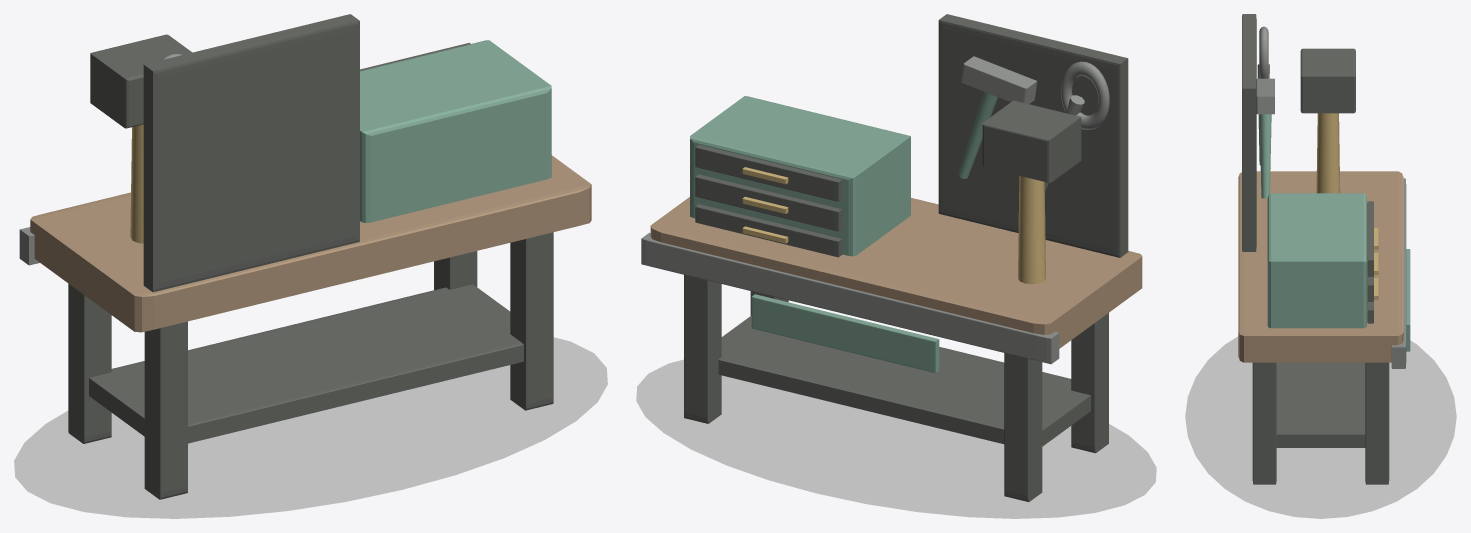
File: craft_station_tools.glb
The picture shows the model from 3 angles, left to right: view 1: azimuth 30°, elevation 25°; view 2: azimuth 150°, elevation 25°; view 3: azimuth 270°, elevation 25°; orthographic projection. The views are drawn at different scales.
Visible parts, largest first — view 1: tool_board, painted_contact_shadow, tool_bench_station_lower_shelf, tool_bench_station_worktop, tool_chest, tool_bench_station_leg_-1_1, tool_bench_station_leg_1_1, tool_bench_station_leg_-1_-1, drill_press_head, drill_press_column, tool_bench_station_leg_1_-1; view 2: painted_contact_shadow, tool_bench_station_worktop, tool_board, tool_bench_station_lower_shelf, tool_chest, tool_bench_station_front_edge, tool_bench_station_type_plate, drill_press_head, tool_bench_station_leg_-1_-1, tool_bench_station_leg_1_-1, tool_bench_station_leg_-1_1, tool_drawer_2 (+6 smaller); view 3: painted_contact_shadow, tool_bench_station_worktop, tool_chest, tool_bench_station_lower_shelf, drill_press_head, tool_board, tool_bench_station_leg_1_-1, tool_bench_station_leg_1_1, drill_press_column, tool_bench_station_front_edge, hammer_handle, hammer_head (+3 smaller).
Part boxes in pixels (left/top/right/bottom): tool_board: left=143, top=14, right=359, bottom=292; painted_contact_shadow: left=14, top=337, right=607, bottom=518; tool_bench_station_lower_shelf: left=89, top=284, right=523, bottom=443; tool_bench_station_worktop: left=30, top=155, right=591, bottom=332; tool_chest: left=360, top=40, right=551, bottom=222; tool_bench_station_leg_-1_1: left=144, top=321, right=187, bottom=499; tool_bench_station_leg_1_1: left=510, top=232, right=553, bottom=410; tool_bench_station_leg_-1_-1: left=68, top=283, right=111, bottom=443; drill_press_head: left=90, top=34, right=191, bottom=128; drill_press_column: left=130, top=124, right=143, bottom=243; tool_bench_station_leg_1_-1: left=434, top=251, right=477, bottom=289; painted_contact_shadow: left=636, top=360, right=1156, bottom=518; tool_bench_station_worktop: left=650, top=197, right=1142, bottom=348; tool_board: left=938, top=14, right=1128, bottom=257; tool_bench_station_lower_shelf: left=718, top=315, right=1090, bottom=446; tool_chest: left=690, top=96, right=910, bottom=256; tool_bench_station_front_edge: left=641, top=232, right=1059, bottom=364; tool_bench_station_type_plate: left=751, top=294, right=939, bottom=373; drill_press_head: left=982, top=100, right=1081, bottom=182; tool_bench_station_leg_-1_-1: left=1004, top=353, right=1042, bottom=501; tool_bench_station_leg_1_-1: left=684, top=275, right=721, bottom=423; tool_bench_station_leg_-1_1: left=1071, top=313, right=1108, bottom=453; tool_drawer_2: left=695, top=144, right=842, bottom=201; painted_contact_shadow: left=1185, top=337, right=1456, bottom=518; tool_bench_station_worktop: left=1238, top=171, right=1403, bottom=362; tool_chest: left=1267, top=193, right=1366, bottom=328; tool_bench_station_lower_shelf: left=1276, top=362, right=1365, bottom=447; drill_press_head: left=1300, top=48, right=1355, bottom=113; tool_board: left=1242, top=14, right=1256, bottom=251; tool_bench_station_leg_1_-1: left=1365, top=362, right=1389, bottom=484; tool_bench_station_leg_1_1: left=1252, top=362, right=1276, bottom=484; drill_press_column: left=1316, top=113, right=1340, bottom=193; tool_bench_station_front_edge: left=1391, top=178, right=1406, bottom=368; hammer_handle: left=1259, top=114, right=1271, bottom=198; hammer_head: left=1256, top=78, right=1274, bottom=114.
Size of the model in its own units: 2.63 by 1.96 by 1.48.
